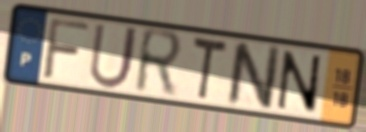F: (40, 15, 93, 83)
N: (225, 40, 283, 112), (276, 48, 323, 117)
R: (131, 25, 186, 101)
T: (189, 34, 229, 104)
U: (86, 21, 141, 92)
